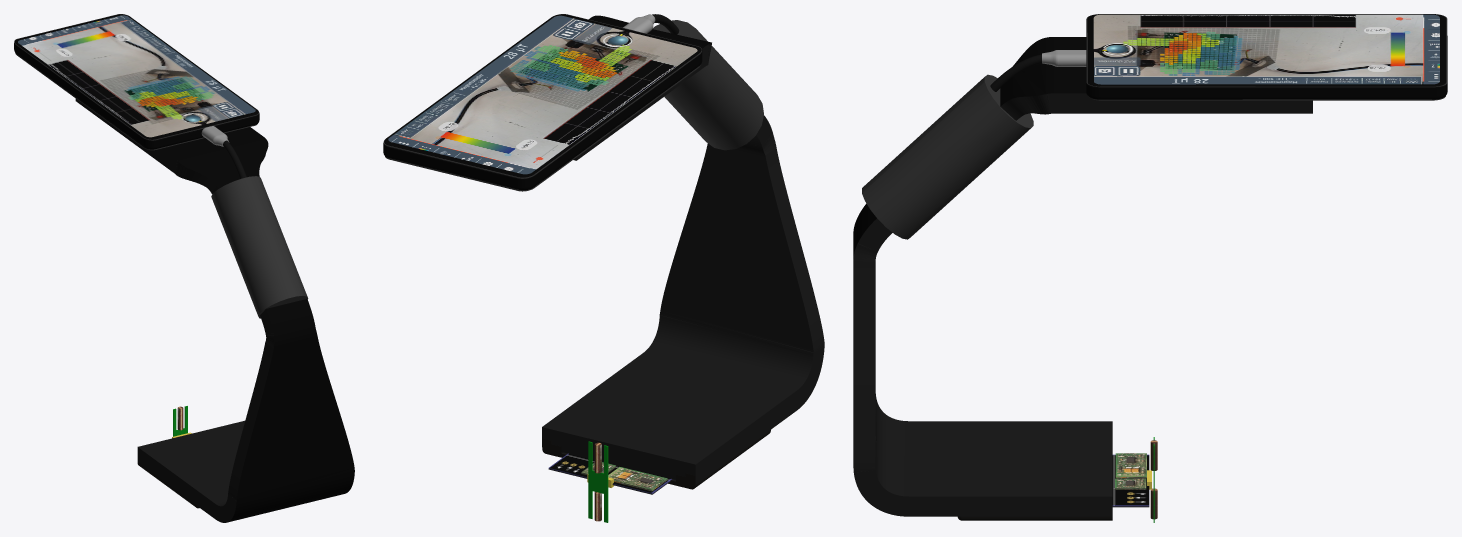
The model's file is lxd_scanphone_magnetometer.glb.
3 views of the same model, side by side, from view 1: azimuth 30°, elevation 25°; view 2: azimuth 150°, elevation 25°; view 3: azimuth 270°, elevation 25° (orthographic). The views are drawn at different scales.
Parts seen in each view (by area): view 1: support_ok, Cube, Cylinder00, Plane.001; view 2: support_ok, Cube, Cylinder00, Box004, Plane.001, Box005, 2019-06-05, Box003, Plane.002; view 3: support_ok, Cube, Cylinder00, Plane.001, Box005, Box003, 2019-06-05, NONE-DC_Br, Plane.002.
Part boxes in pixels (x1,y1,x2,y2): support_ok: (75,99,354,522); Cube: (14,14,259,149); Cylinder00: (211,176,308,318); Plane.001: (14,14,259,140); support_ok: (542,15,824,484); Cube: (383,14,702,190); Cylinder00: (652,20,763,150); Box004: (588,441,608,522); Plane.001: (383,14,701,178); Box005: (548,453,671,493); 2019-06-05: (542,430,770,489); Box003: (608,467,667,491); Plane.002: (385,65,700,191); support_ok: (853,37,1312,516); Cube: (1086,14,1447,99); Cylinder00: (862,74,1033,239); Plane.001: (1086,14,1447,87); Box005: (1112,454,1149,506); Box003: (1115,453,1146,478); 2019-06-05: (957,516,1112,520); NONE-DC_Br: (1042,50,1086,66); Plane.002: (1088,96,1445,100).
Bounding box in the file's own units: 8 × 23.2 × 26.67.
16 materials, 5 textured.
